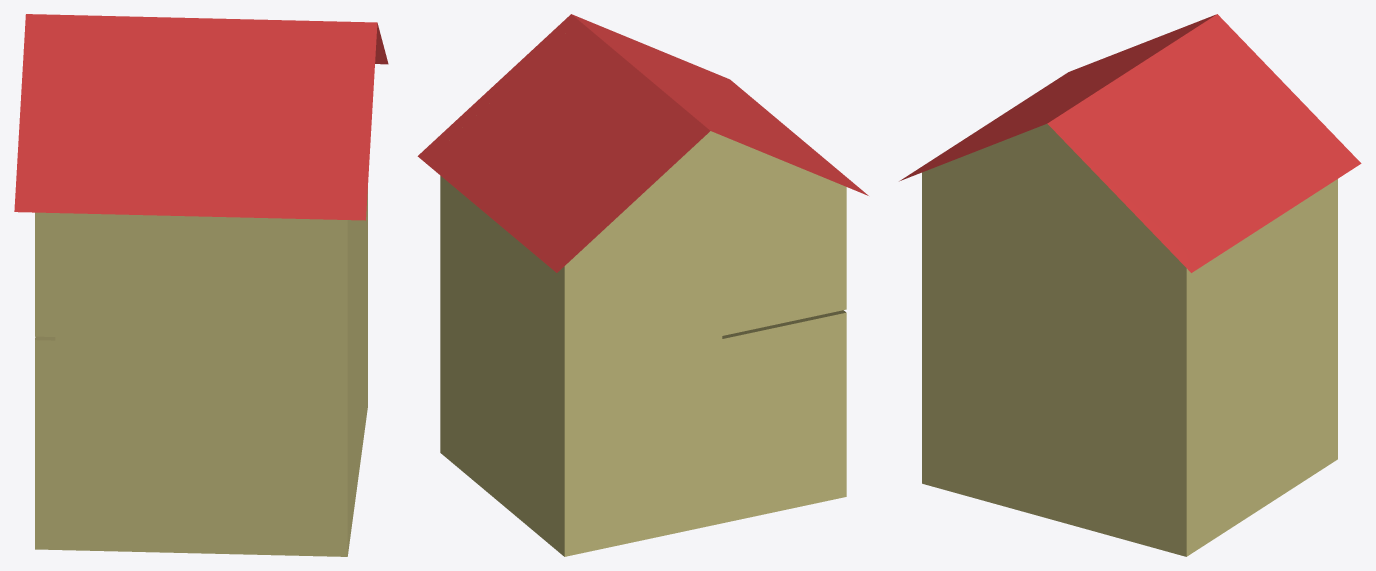
3 views of the same model, side by side, from view 1: azimuth 30°, elevation 25°; view 2: azimuth 150°, elevation 25°; view 3: azimuth 270°, elevation 25° (orthographic). The views are drawn at different scales.
Size of the model in its own units: 13.22 by 13.55 by 13.03.
